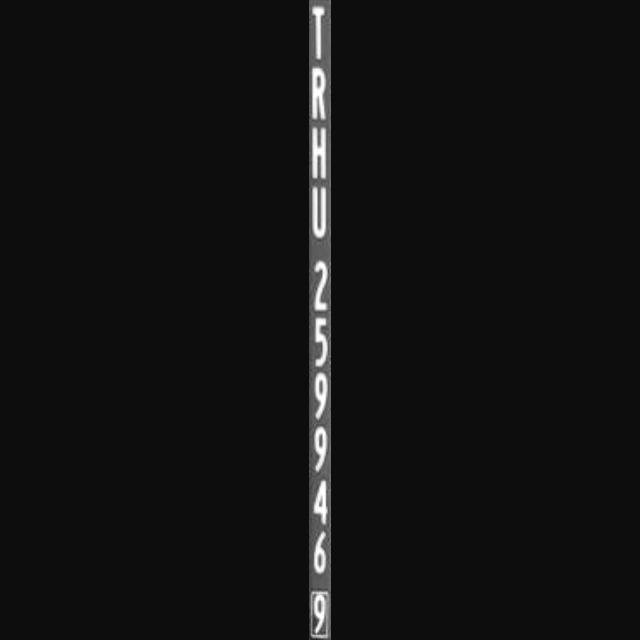2: (309, 257, 331, 313)
4: (309, 475, 331, 523)
5: (309, 316, 331, 368)
6: (309, 522, 331, 576)
9: (309, 582, 331, 640), (309, 366, 331, 420), (309, 423, 331, 475)
h: (309, 120, 331, 187)
r: (309, 66, 331, 118)
t: (309, 1, 331, 64)
u: (309, 185, 331, 237)
